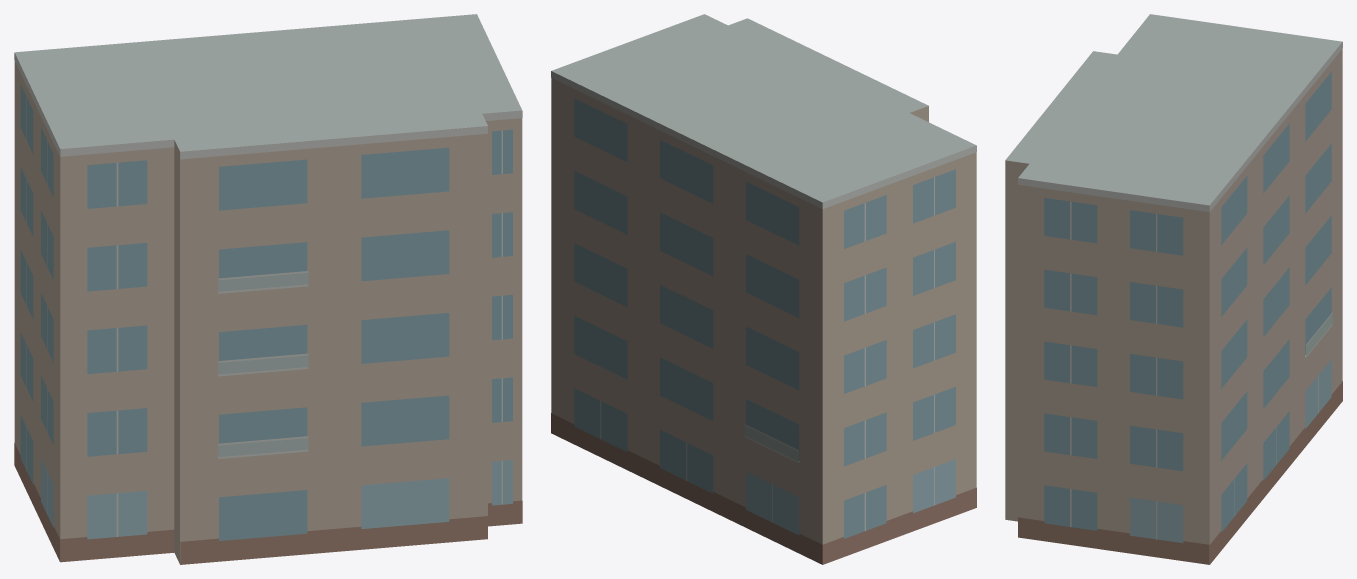
File: survey-upis-32639041.glb
The picture shows the model from 3 angles, left to right: view 1: azimuth 30°, elevation 25°; view 2: azimuth 150°, elevation 25°; view 3: azimuth 270°, elevation 25°; orthographic projection. The views are drawn at different scales.
Visible parts, largest first — view 1: survey-upis-32639041.tmp; view 2: survey-upis-32639041.tmp; view 3: survey-upis-32639041.tmp.
Boxes of the visible parts, bbox=[...] form: survey-upis-32639041.tmp: bbox=[14, 14, 522, 564]; survey-upis-32639041.tmp: bbox=[551, 14, 976, 564]; survey-upis-32639041.tmp: bbox=[1005, 14, 1342, 564].
Size of the model in its own units: 15.09 by 13.2 by 11.25.
